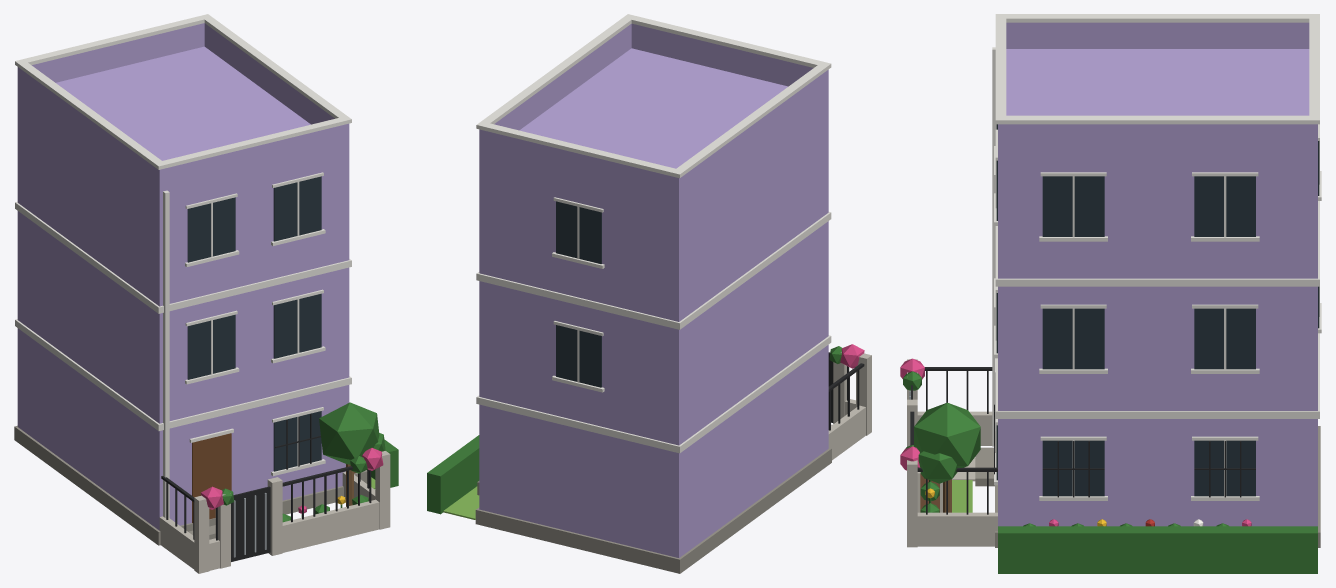
File: BAY_F_Corner_N.glb
The picture shows the model from 3 angles, left to right: view 1: azimuth 30°, elevation 25°; view 2: azimuth 150°, elevation 25°; view 3: azimuth 270°, elevation 25°; orthographic projection. The views are drawn at different scales.
Visible parts, largest first — view 1: BAY_F_Corner_N; view 2: BAY_F_Corner_N; view 3: BAY_F_Corner_N.
Part boxes in pixels (x1,y1,x2,y2): BAY_F_Corner_N: [14, 14, 398, 573]; BAY_F_Corner_N: [427, 14, 871, 573]; BAY_F_Corner_N: [900, 14, 1321, 573].
Size of the model in its own units: 5.6 by 8.4 by 7.51.
1 material, 1 textured.
